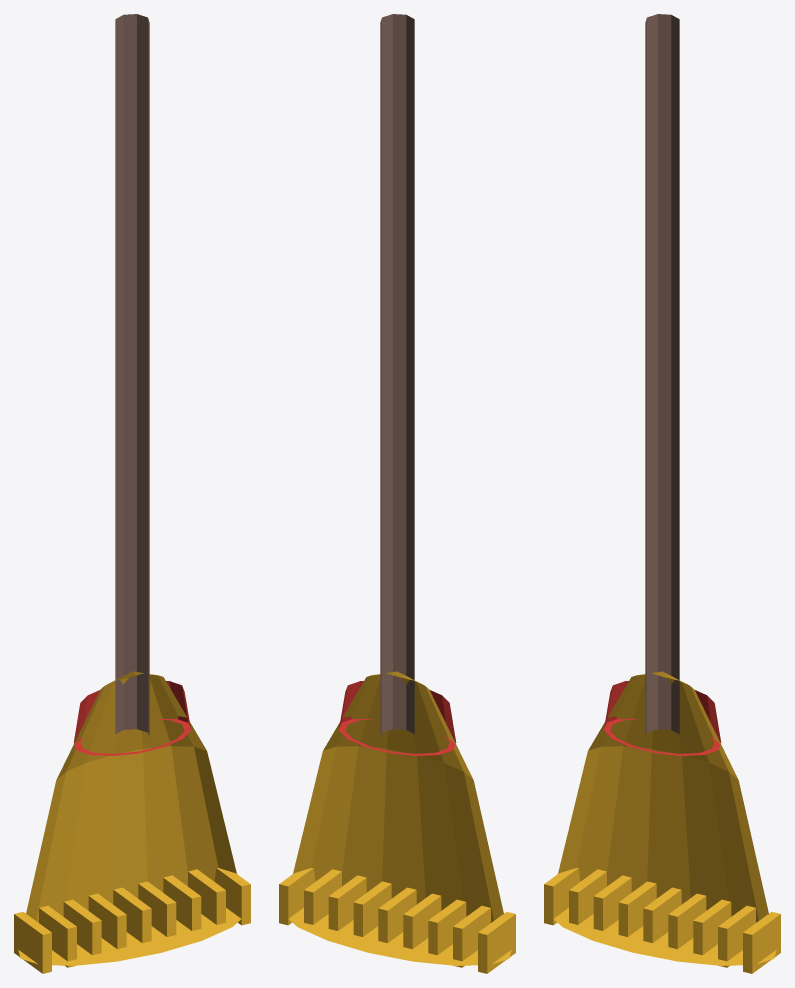
The model's file is kvast.glb.
3 renders of one model, left to right at view 1: azimuth 30°, elevation 25°; view 2: azimuth 150°, elevation 25°; view 3: azimuth 330°, elevation 25°, orthographic.
Visible parts, largest first — view 1: kvast; view 2: kvast; view 3: kvast.
Part boxes in pixels (x1,y1,x2,y2): kvast: (14, 14, 250, 973); kvast: (279, 14, 515, 973); kvast: (544, 14, 780, 973).
Size of the model in its own units: 0.36 by 1.41 by 0.162.
